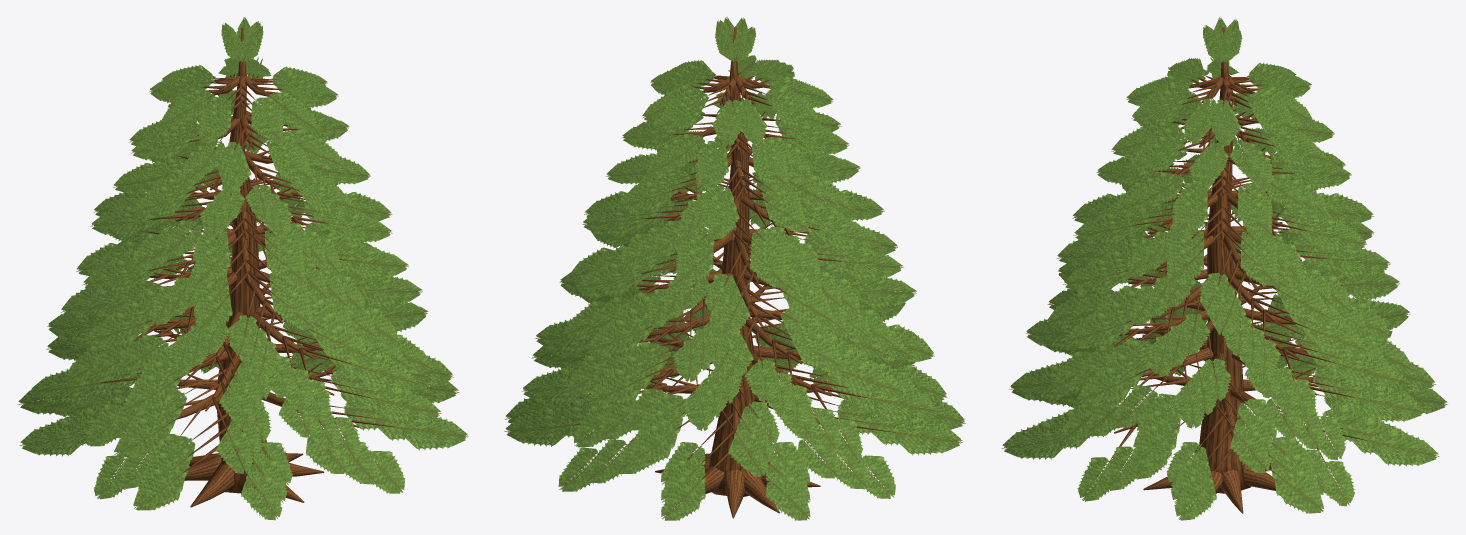
Rendered from LayeredFir_LOD0.glb.
3 renders of one model, left to right at view 1: azimuth 30°, elevation 25°; view 2: azimuth 150°, elevation 25°; view 3: azimuth 270°, elevation 25°, orthographic.
Visible parts, largest first — view 1: SM_LayeredFir_Foliage_LOD0, SM_LayeredFir_Bark_LOD0; view 2: SM_LayeredFir_Foliage_LOD0, SM_LayeredFir_Bark_LOD0; view 3: SM_LayeredFir_Foliage_LOD0, SM_LayeredFir_Bark_LOD0.
Boxes of the visible parts, x1,y1,x2,y2 form: SM_LayeredFir_Foliage_LOD0: (17, 17, 468, 520); SM_LayeredFir_Bark_LOD0: (100, 27, 396, 507); SM_LayeredFir_Foliage_LOD0: (504, 17, 965, 520); SM_LayeredFir_Bark_LOD0: (576, 27, 889, 518); SM_LayeredFir_Foliage_LOD0: (1001, 16, 1447, 520); SM_LayeredFir_Bark_LOD0: (1111, 27, 1366, 513).
Bounding box in the file's own units: 7.81 × 8.76 × 7.87.
2 materials, 2 textured.
